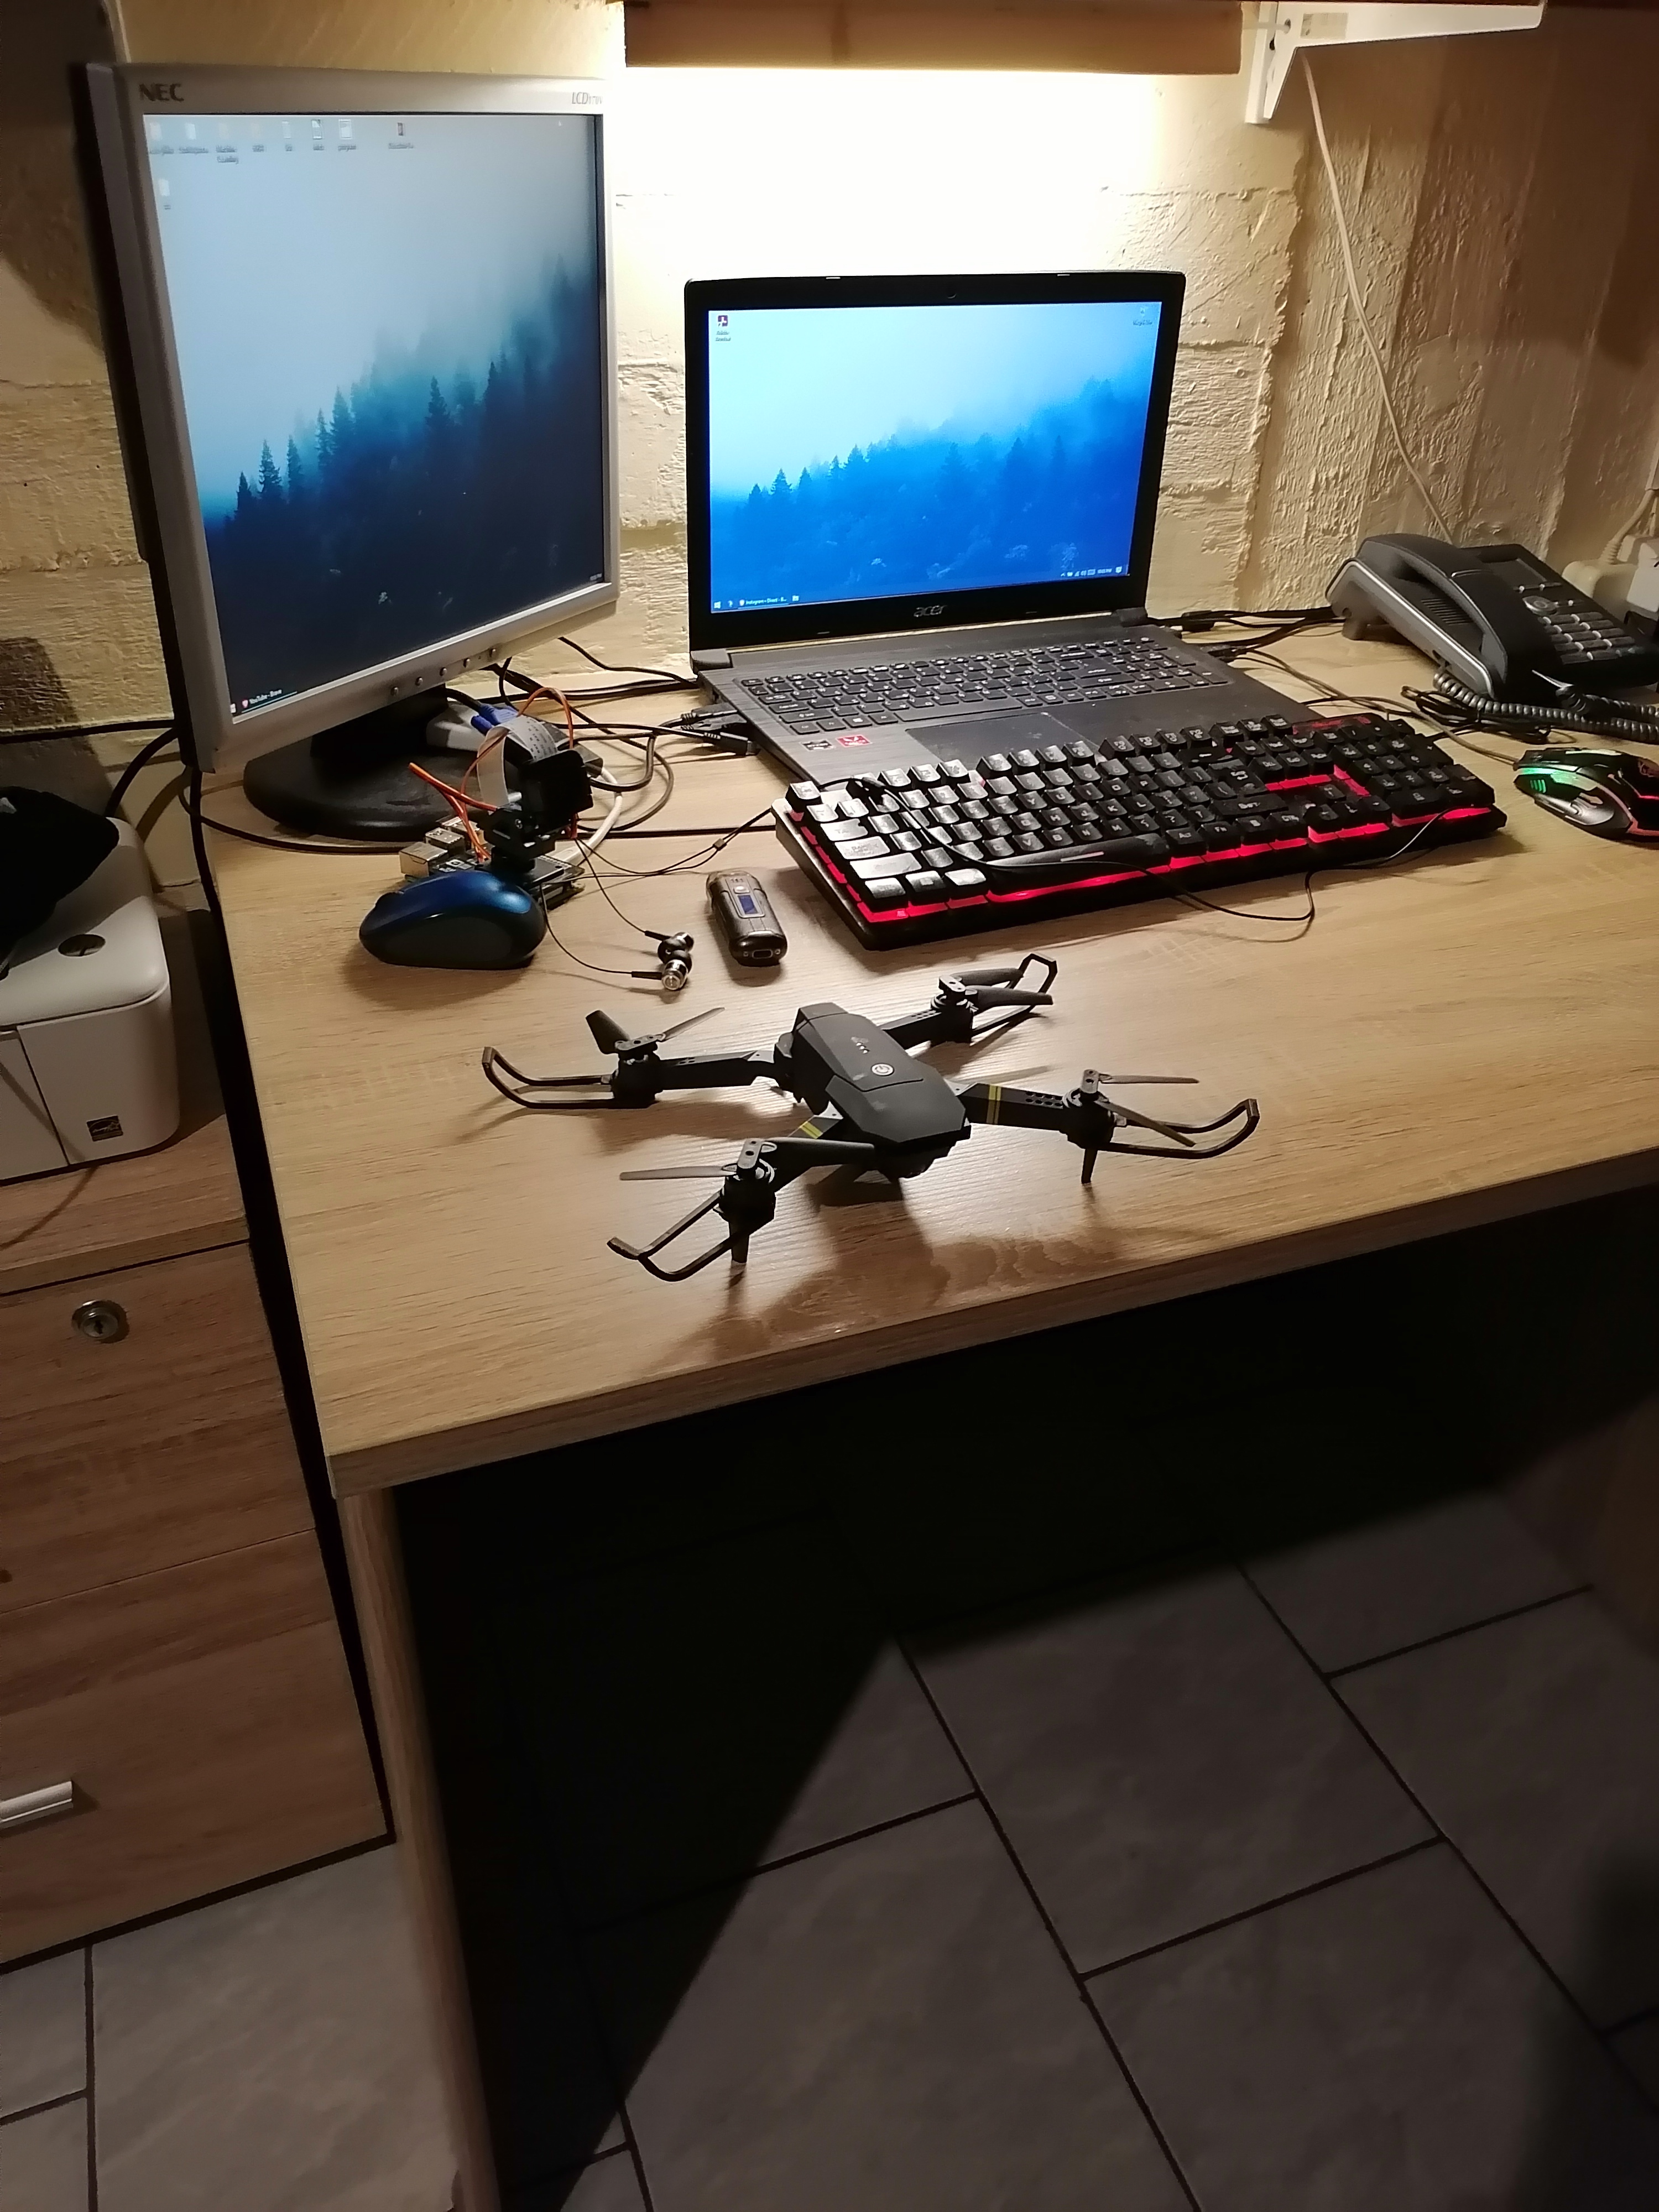drone: (427, 1017, 1312, 1320)
